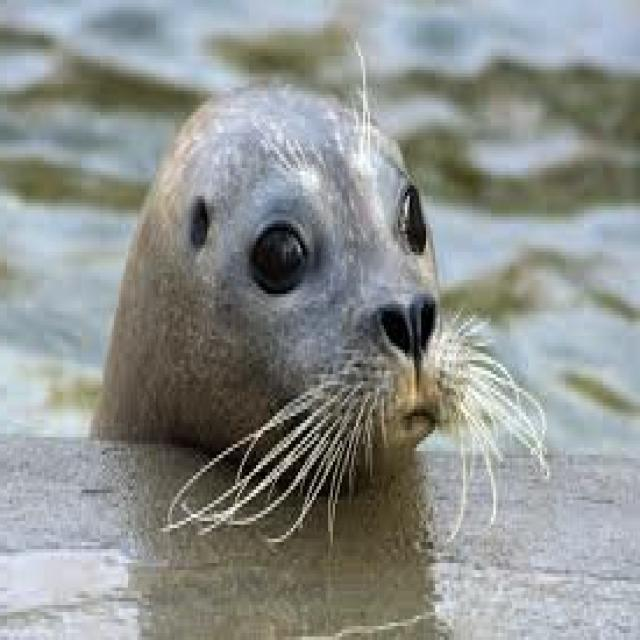seal: (100, 87, 545, 539)
